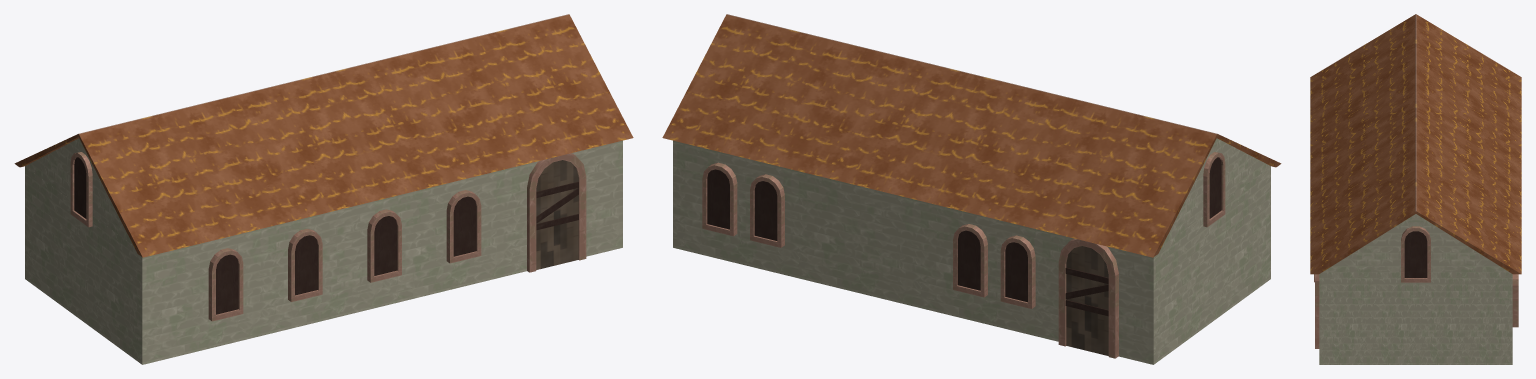
File: SM_Building_002_House.fbx
3 renders of one model, left to right at view 1: azimuth 30°, elevation 25°; view 2: azimuth 150°, elevation 25°; view 3: azimuth 270°, elevation 25°, orthographic. The views are drawn at different scales.
Parts seen in each view (by area): view 1: polySurface698; view 2: polySurface698; view 3: polySurface698.
Boxes of the visible parts, bbox=[...] form: polySurface698: bbox=[14, 14, 633, 364]; polySurface698: bbox=[662, 14, 1281, 364]; polySurface698: bbox=[1310, 14, 1521, 364].
Bounding box in the file's own units: 763 × 282 × 346.
